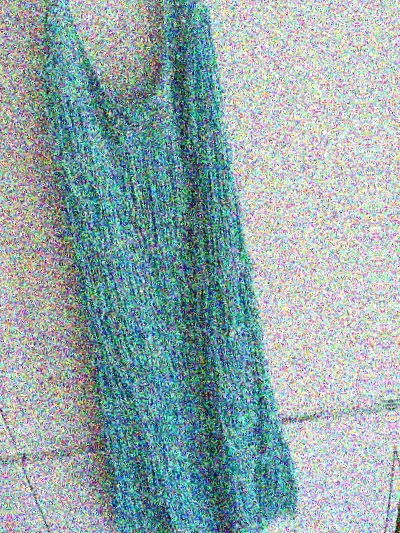Dress: (5, 0, 313, 533)
